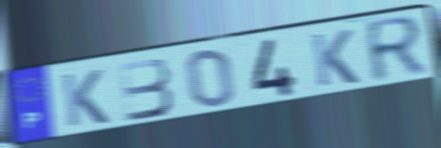0: (183, 47, 236, 110)
4: (250, 37, 298, 100)
B: (117, 56, 177, 124)
K: (59, 68, 112, 130), (309, 28, 362, 90)
R: (362, 13, 430, 87)
